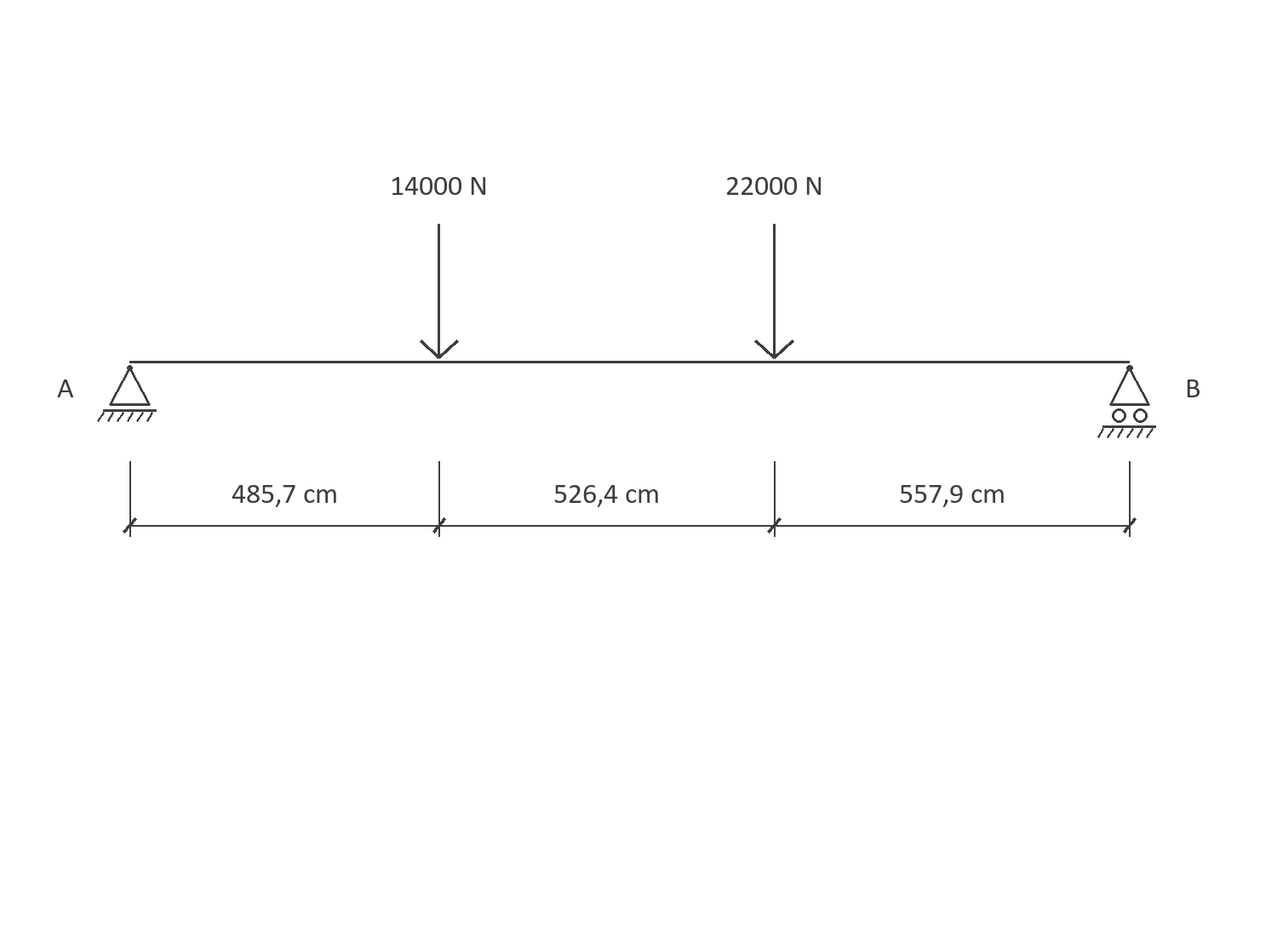pin_support: (97, 365, 157, 422)
point_load: (754, 224, 794, 359), (420, 224, 459, 359)
roller_support: (1097, 365, 1156, 438)
